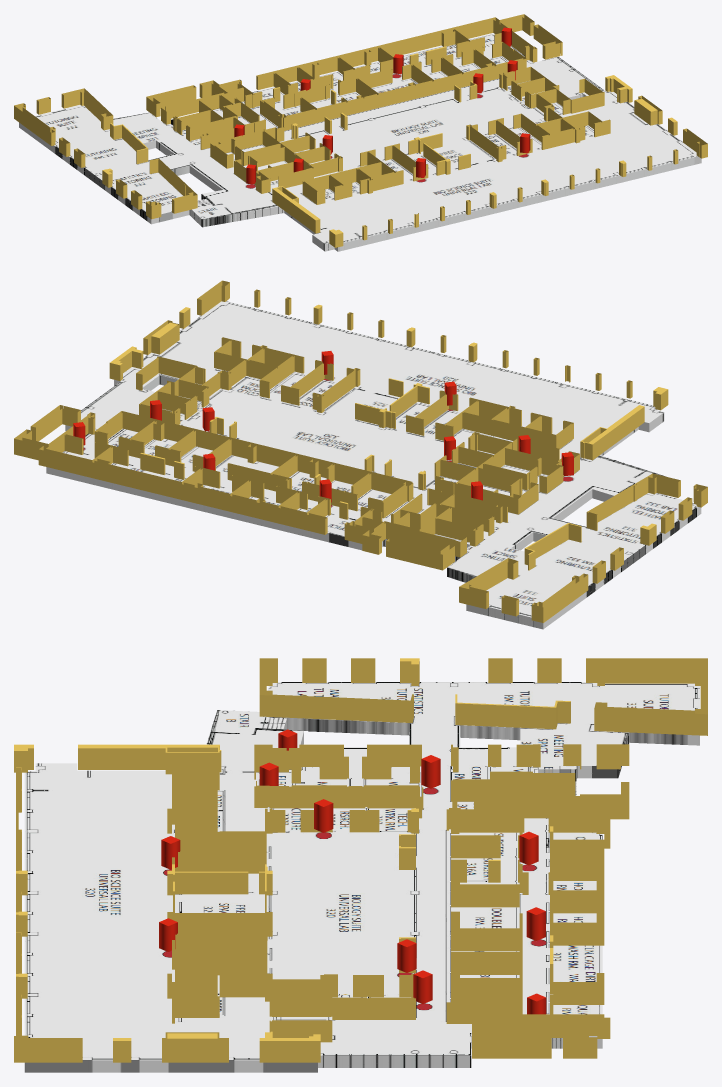
Rendered from ISELF_3rdfloor.obj.
3 views of the same model, one above another, from view 1: azimuth 30°, elevation 25°; view 2: azimuth 150°, elevation 25°; view 3: azimuth 270°, elevation 25° (orthographic). The views are drawn at different scales.
Visible parts, largest first — view 1: ISelf3rdFloor01, ISelf3rdFloorWalls; view 2: ISelf3rdFloorWalls, ISelf3rdFloor01; view 3: ISelf3rdFloor01, ISelf3rdFloorWalls.
Boxes of the visible parts, x1,y1,x2,y2 form: ISelf3rdFloor01: (19,33,701,251); ISelf3rdFloorWalls: (14,14,707,247); ISelf3rdFloorWalls: (14,280,707,622); ISelf3rdFloor01: (46,301,701,629); ISelf3rdFloor01: (24,682,699,1072); ISelf3rdFloorWalls: (14,658,707,1062).
Bounding box in the file's own units: 2376 × 131 × 1820.
